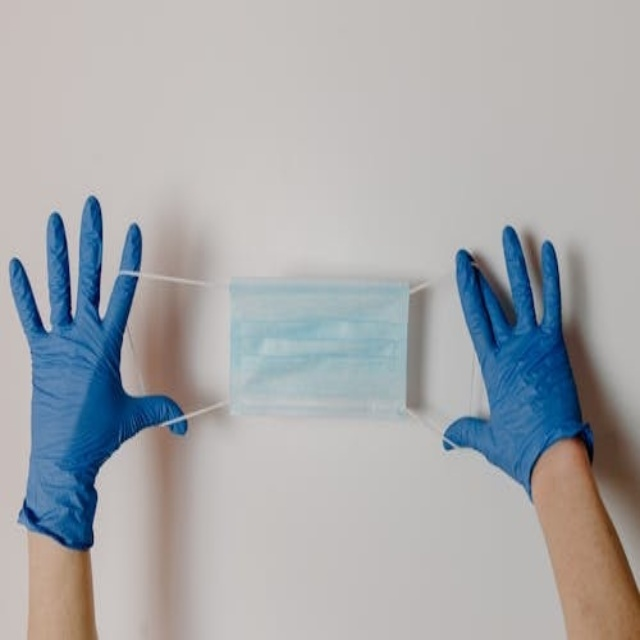Guantes: (7, 194, 191, 551), (440, 226, 594, 503)
